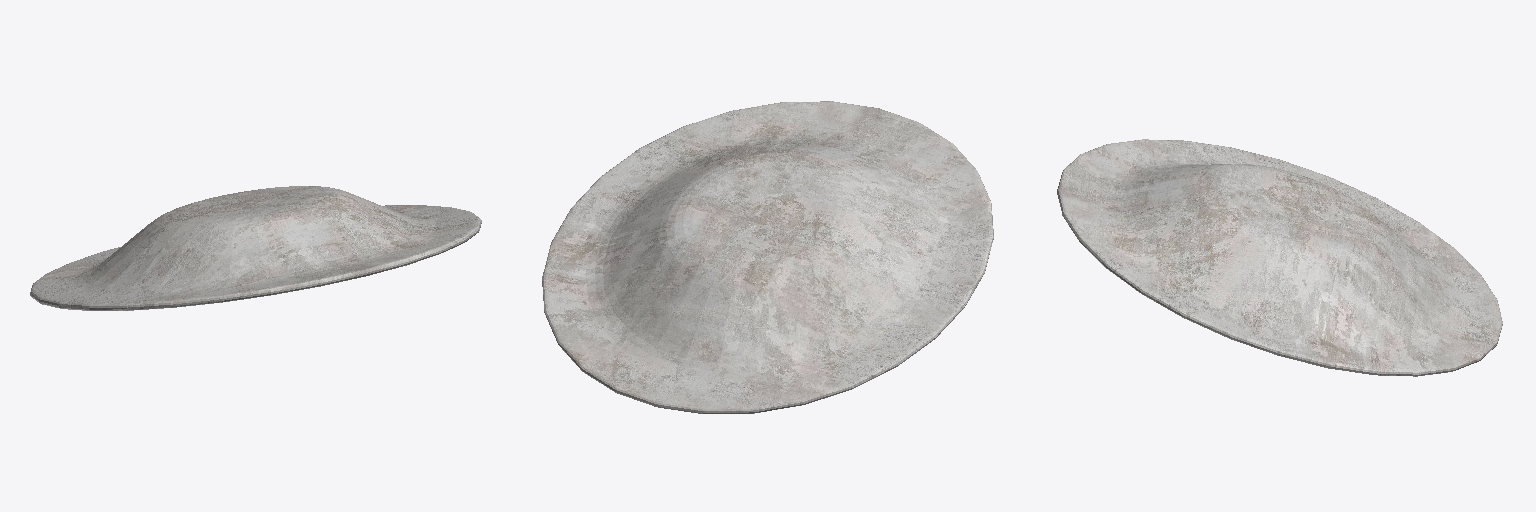
The picture shows the model from 3 angles: view 1: azimuth 30°, elevation 25°; view 2: azimuth 150°, elevation 25°; view 3: azimuth 270°, elevation 25°; orthographic projection.
Size of the model in its own units: 1.98 by 0.683 by 1.94.
Materials: 1 (1 with a texture image).